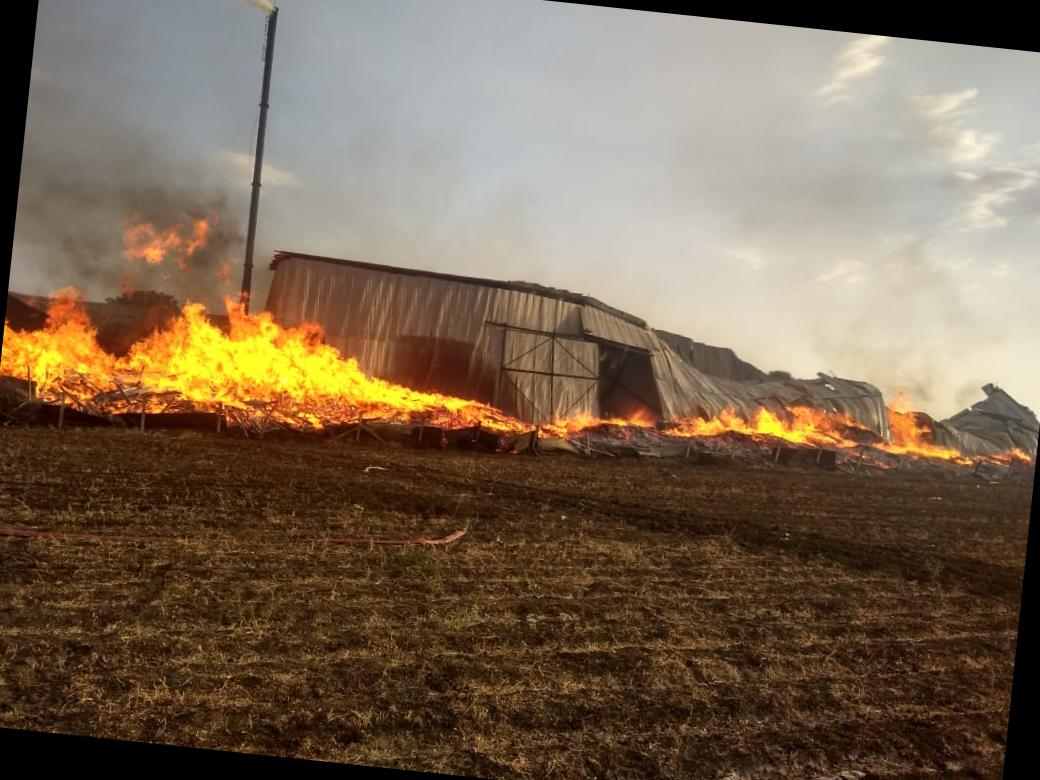Fire: (0, 283, 543, 457), (542, 349, 1040, 491)
Smoke: (6, 0, 274, 326)
